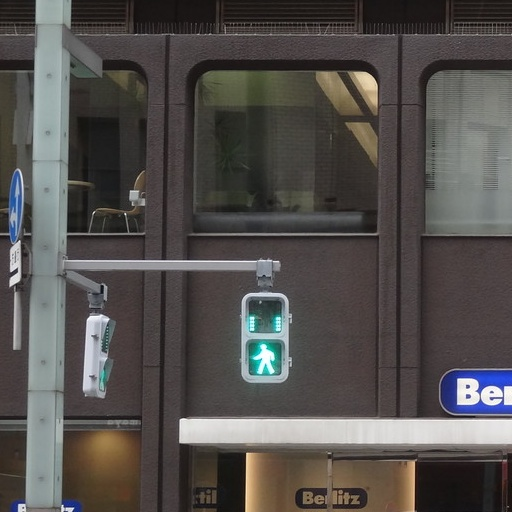Pedestrian_Signal_Blue: (234, 278, 293, 387)
